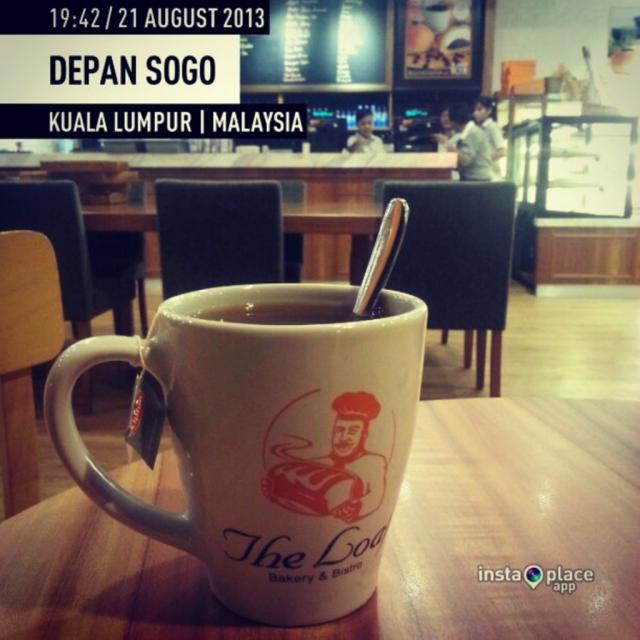Coffee: (66, 284, 420, 640)
Tea: (182, 299, 384, 329)
